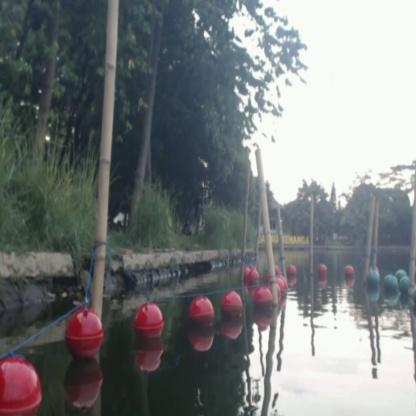green_buoy: (384, 274, 398, 302), (398, 278, 410, 305), (366, 271, 380, 292)
red_buoy: (0, 352, 45, 414), (66, 308, 102, 361), (136, 304, 164, 348), (188, 296, 212, 338), (220, 292, 242, 331), (254, 290, 274, 321), (245, 266, 256, 290), (278, 275, 287, 304), (342, 262, 354, 283), (316, 264, 326, 282), (288, 265, 296, 282)
